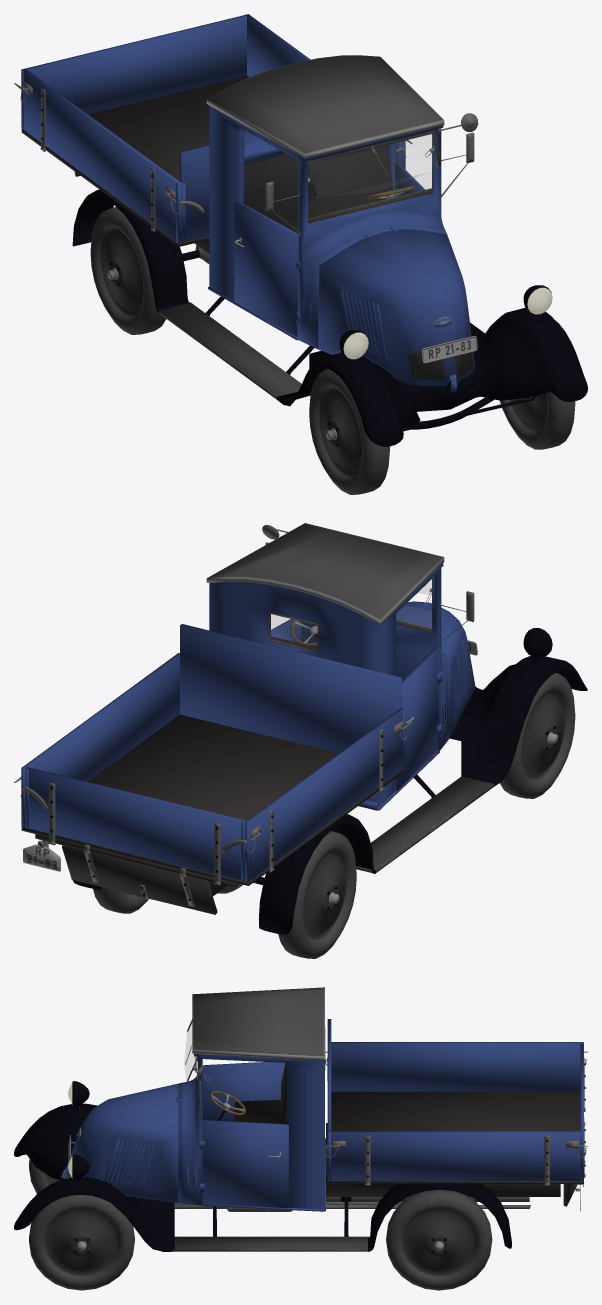
Rendered from phaenomen_4_rl.gltf.
3 renders of one model, top to bottom at view 1: azimuth 30°, elevation 25°; view 2: azimuth 150°, elevation 25°; view 3: azimuth 270°, elevation 25°, orthographic. The views are drawn at different scales.
Visible parts, largest first — view 1: paenomen_textured; view 2: paenomen_textured; view 3: paenomen_textured.
Part boxes in pixels (box(x1,y1,x2,y2)): paenomen_textured: box(14, 14, 587, 494); paenomen_textured: box(14, 523, 587, 958); paenomen_textured: box(14, 987, 587, 1290).
Size of the model in its own units: 1.73 by 2.05 by 4.42.
2 materials, 2 textured.
